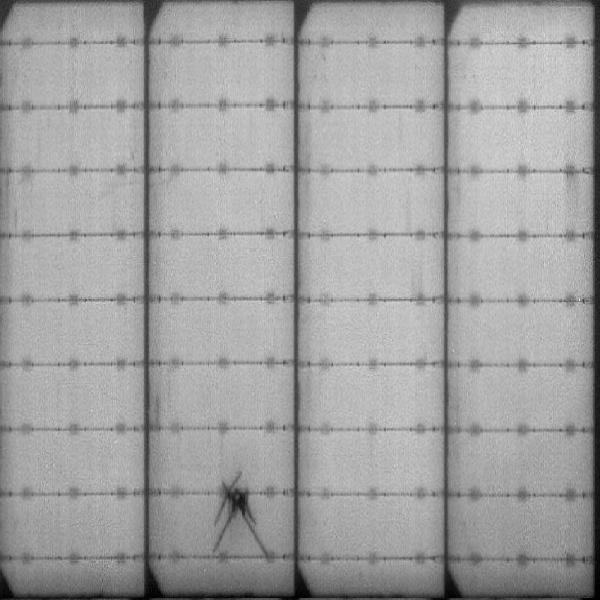broken: (216, 473, 268, 551)
